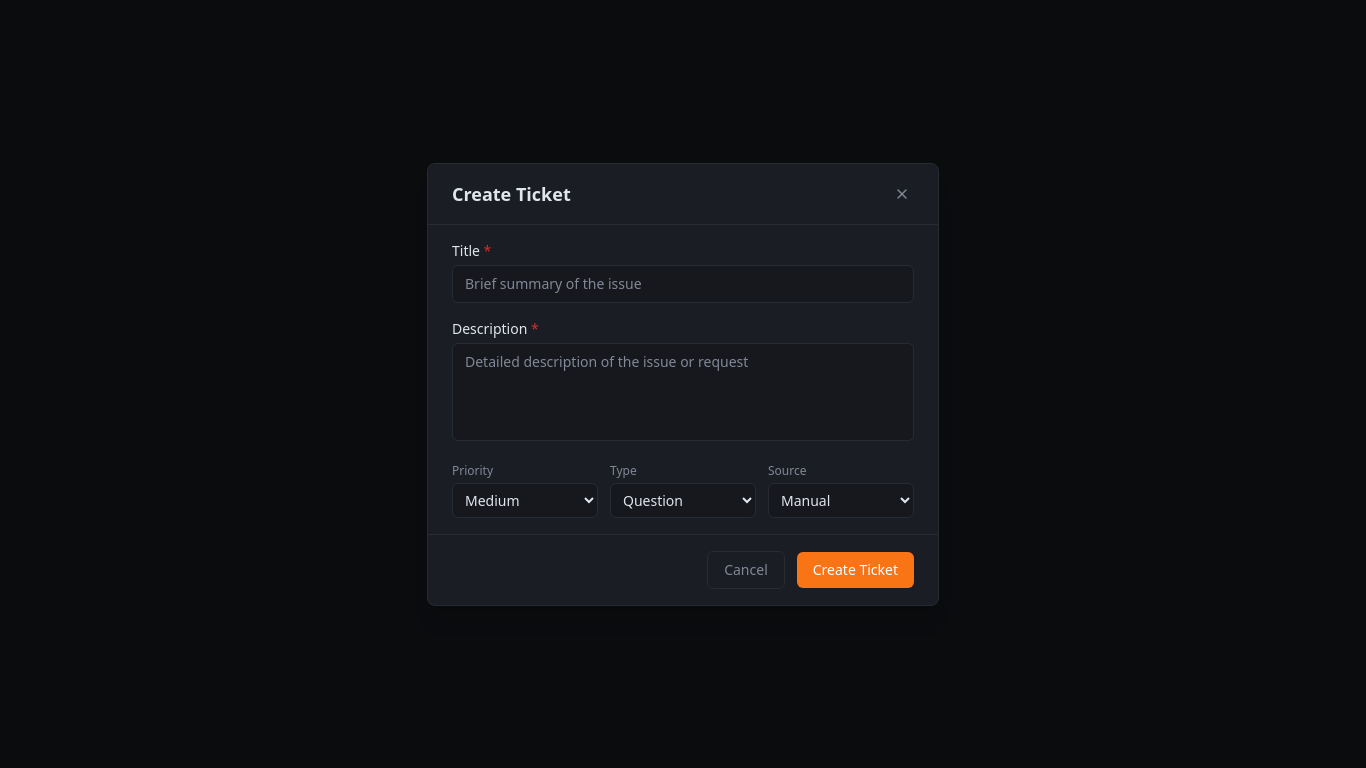
Test: CreateTicketModal › shows error on API failure
The width and height of the screenshot is (1366, 768).
Type "Test" into the field with test id "create-ticket-title" at point(683, 284), box [452,264,914,302]
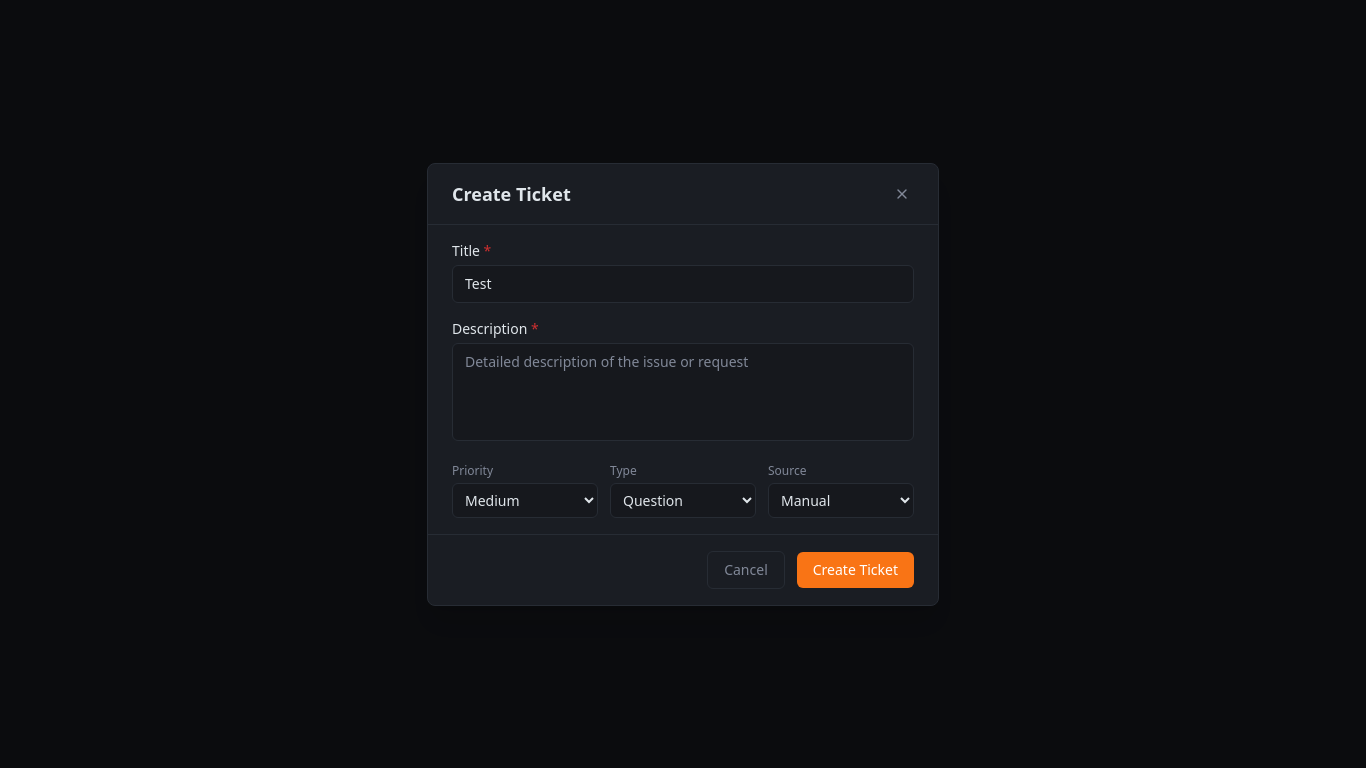
Type "Description" into the text box with test id "create-ticket-description" at point(683, 392), box [452,342,914,440]
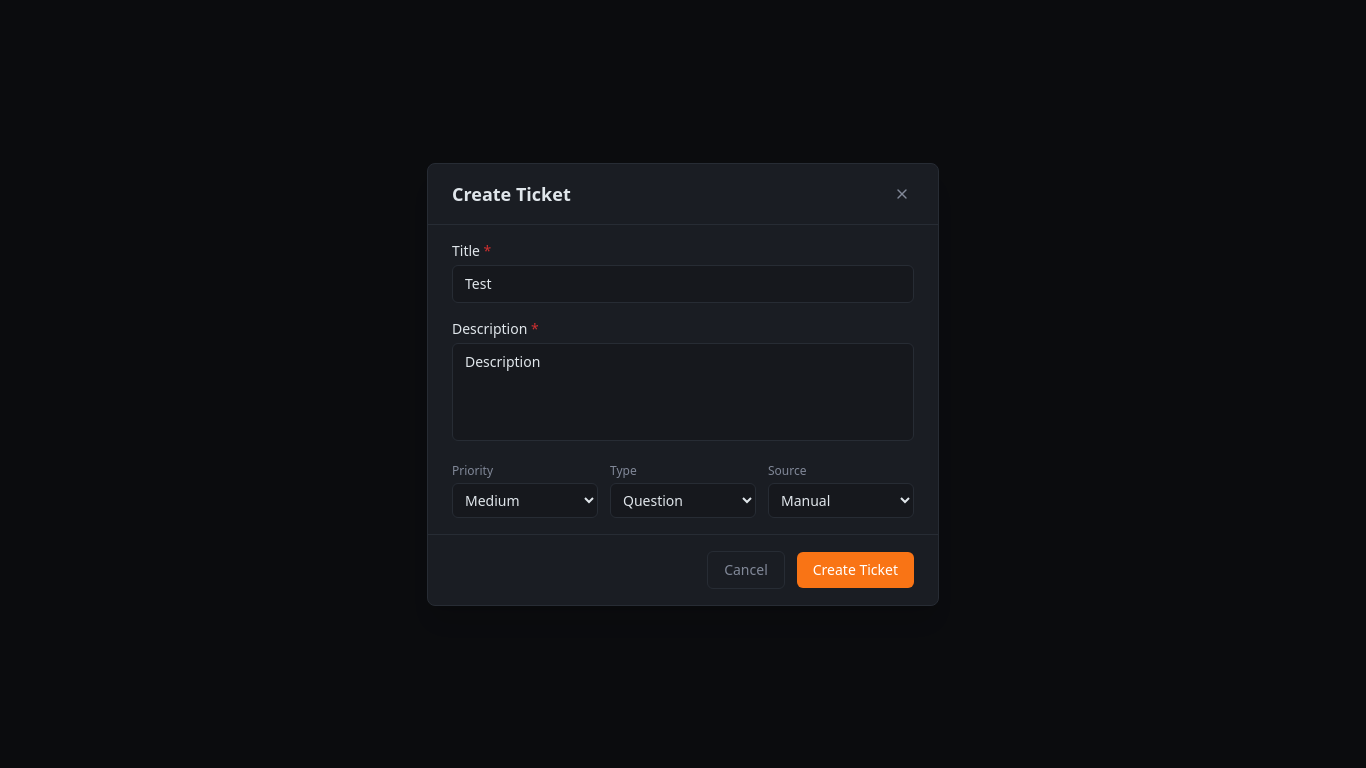
Click the button with test id "create-ticket-submit" at point(855, 570), box [797,552,914,588]
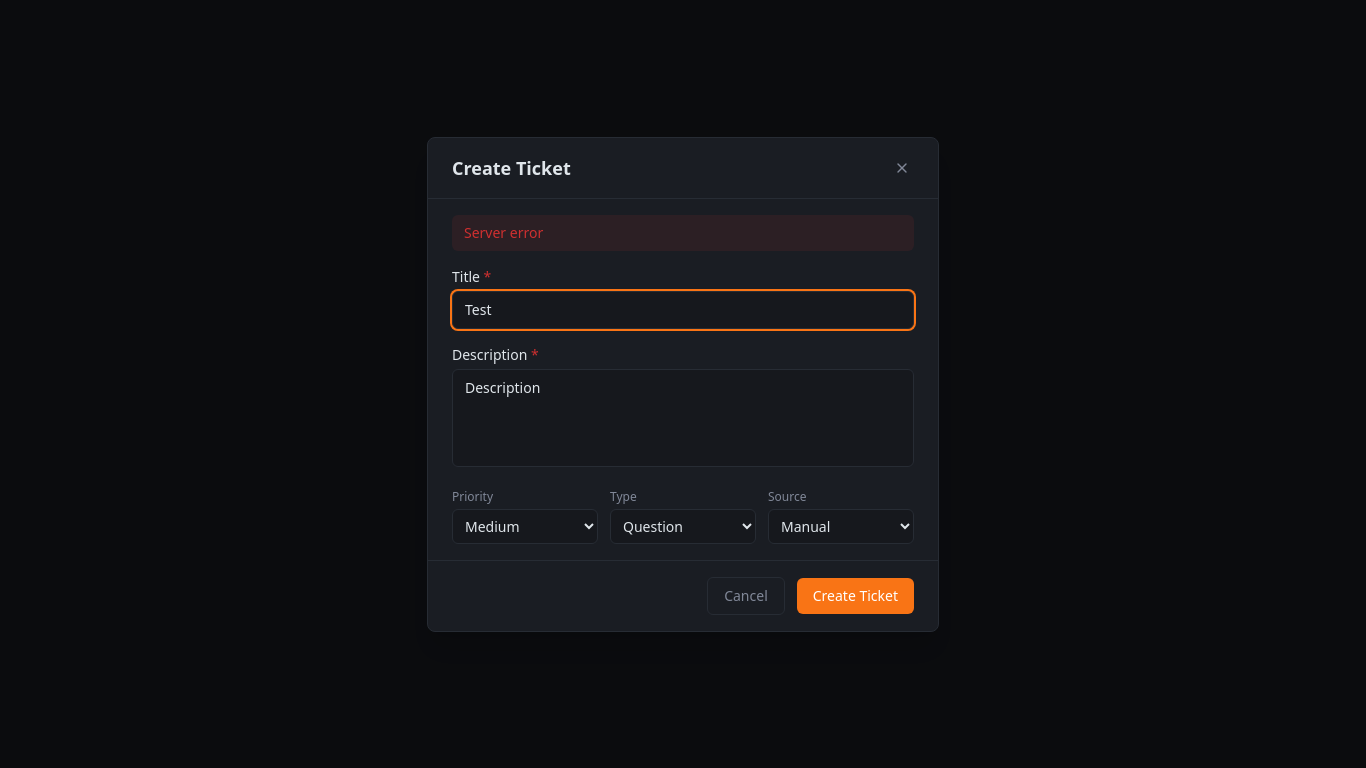
Now the text with test id "create-ticket-error" reads "Server error", box [464,222,543,242]
